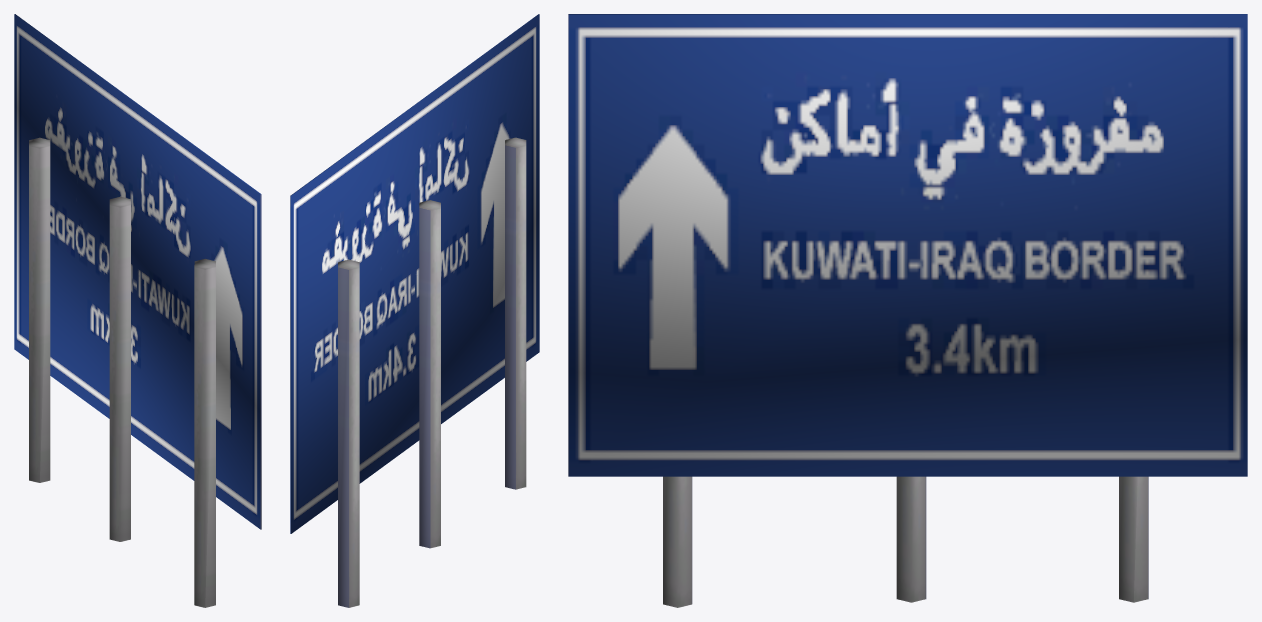
File: RoadSign01.glb
The picture shows the model from 3 angles, left to right: view 1: azimuth 30°, elevation 25°; view 2: azimuth 150°, elevation 25°; view 3: azimuth 270°, elevation 25°; orthographic projection. The views are drawn at different scales.
Visible parts, largest first — view 1: ROADSIGN01; view 2: ROADSIGN01; view 3: ROADSIGN01.
Part boxes in pixels (bbox=[...]): ROADSIGN01: bbox=[14, 14, 261, 607]; ROADSIGN01: bbox=[290, 14, 539, 607]; ROADSIGN01: bbox=[568, 14, 1247, 607].
Bounding box in the file's own units: 0.258 × 3.88 × 4.
Materials: 2 (2 with a texture image).
